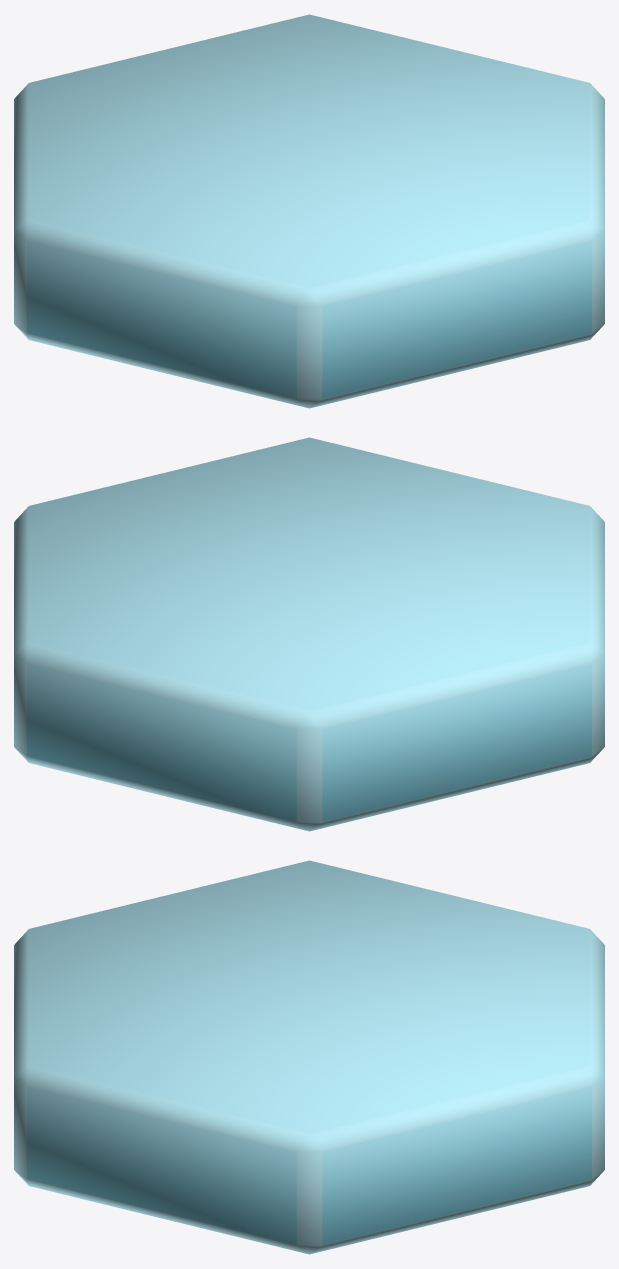
The model's file is bavel_spot_water.fbx.
The picture shows the model from 3 angles, top to bottom: view 1: azimuth 30°, elevation 25°; view 2: azimuth 150°, elevation 25°; view 3: azimuth 270°, elevation 25°; orthographic projection.
Visible parts, largest first — view 1: bavel_spot_water; view 2: bavel_spot_water; view 3: bavel_spot_water.
Boxes of the visible parts, x1,y1,x2,y2 form: bavel_spot_water: [14, 14, 604, 408]; bavel_spot_water: [14, 437, 604, 831]; bavel_spot_water: [14, 860, 604, 1254].
Bounding box in the file's own units: 358 × 71.12 × 317.
1 material, 1 textured.
